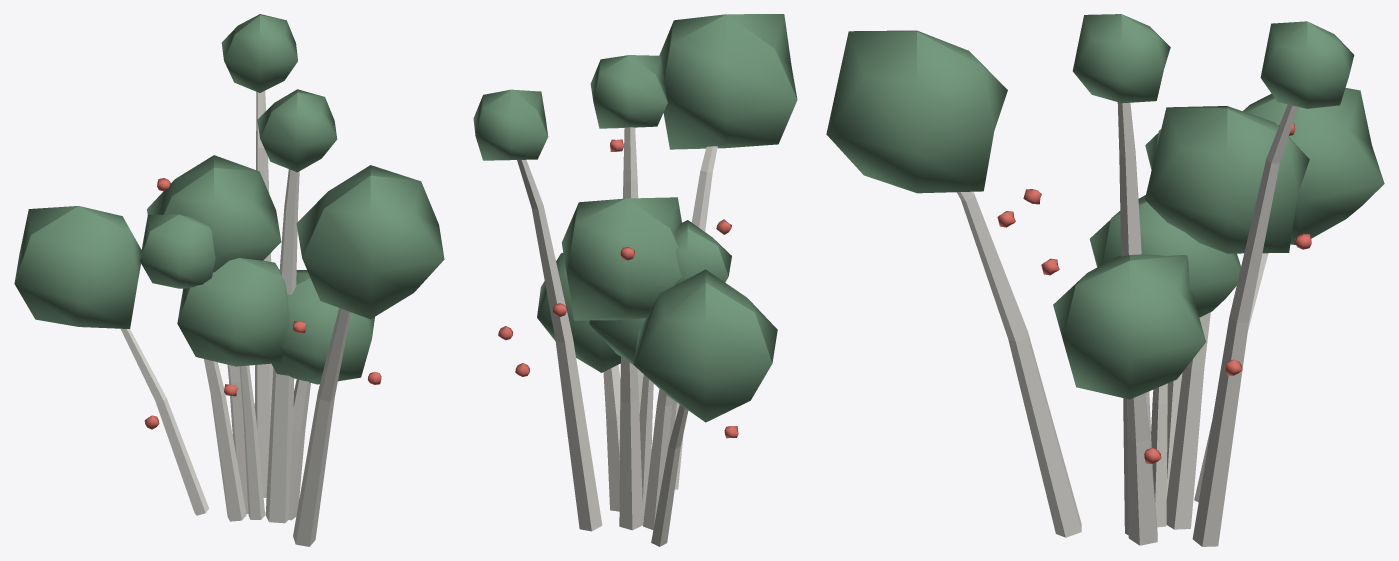
Rendered from holly_bush.glb.
The picture shows the model from 3 angles, left to right: view 1: azimuth 30°, elevation 25°; view 2: azimuth 150°, elevation 25°; view 3: azimuth 270°, elevation 25°; orthographic projection. The views are drawn at different scales.
Parts seen in each view (by area): view 1: holly-bush; view 2: holly-bush; view 3: holly-bush.
Part boxes in pixels (bbox=[...]): holly-bush: bbox=[14, 14, 444, 546]; holly-bush: bbox=[473, 14, 797, 546]; holly-bush: bbox=[826, 14, 1384, 546].
Size of the model in its own units: 2.01 by 2.78 by 2.59.
